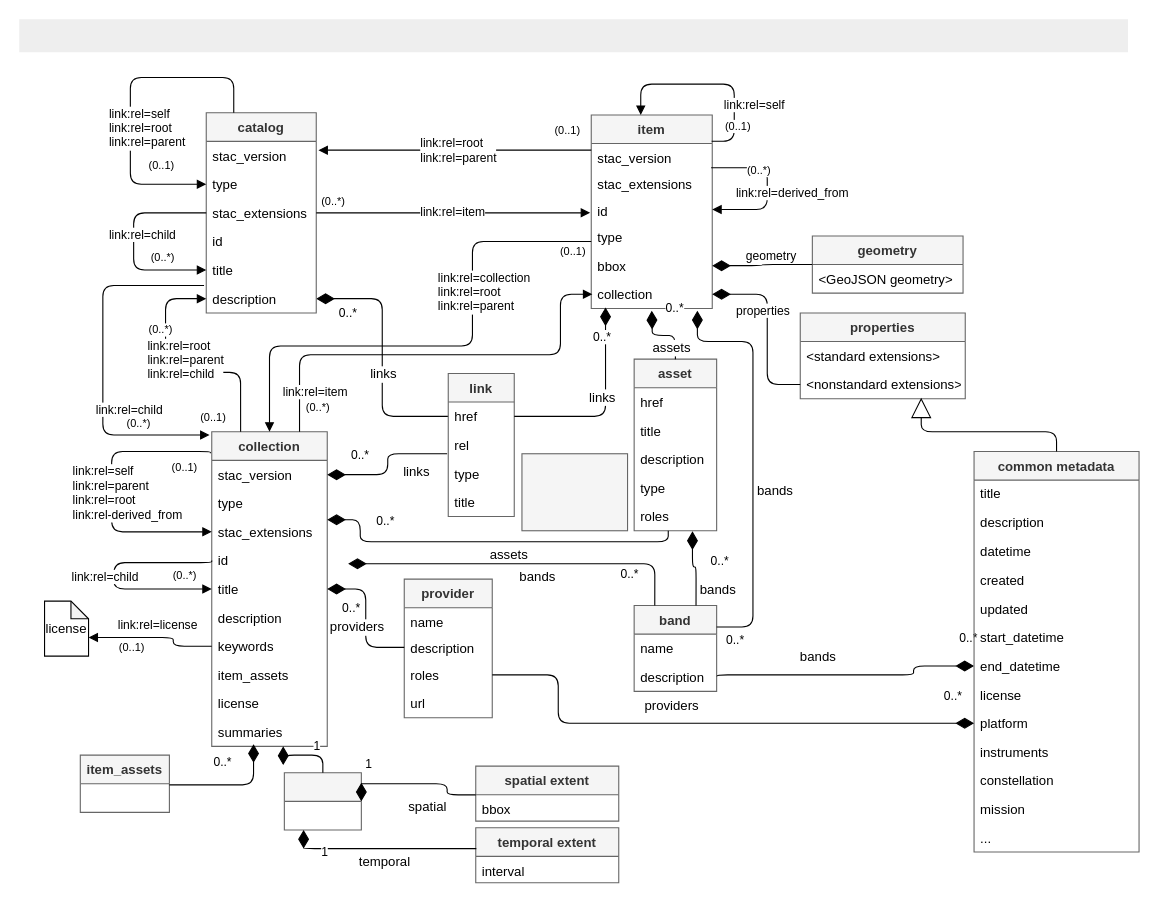
Some shapes in this 1158 by 904 pixel diagram are drawn without their labels. Each missing label, with the centre of its shape:
extent: point (322, 801)
STAC 1.1.0 Model: point (573, 35)
Standard Asset Role Types thumbnail overview data metadata: point (574, 492)
